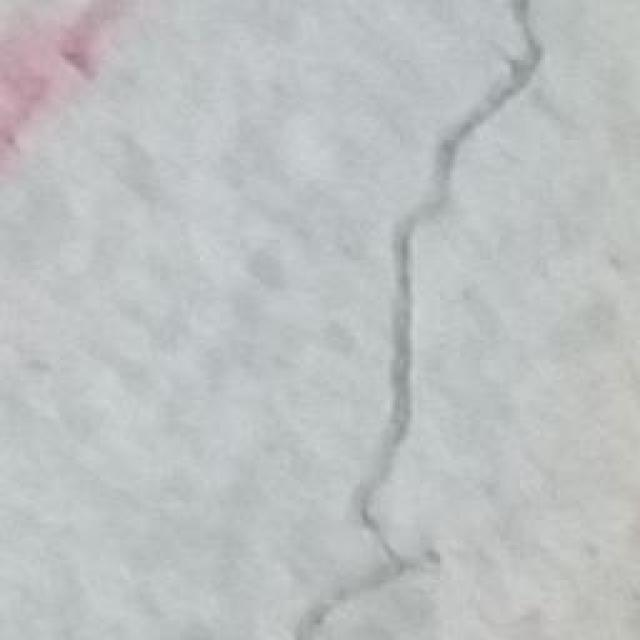Longitudinal: (291, 0, 524, 640)
